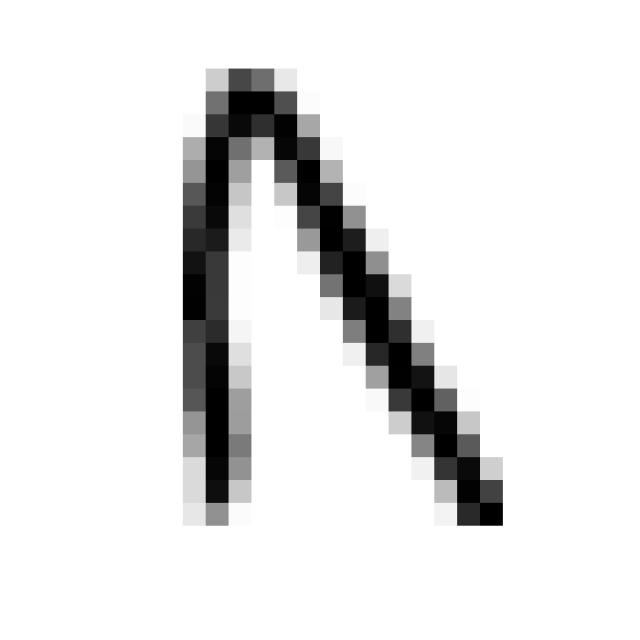8 -eight-: (147, 41, 520, 543)
